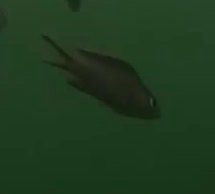smallfish: (43, 30, 165, 132)
